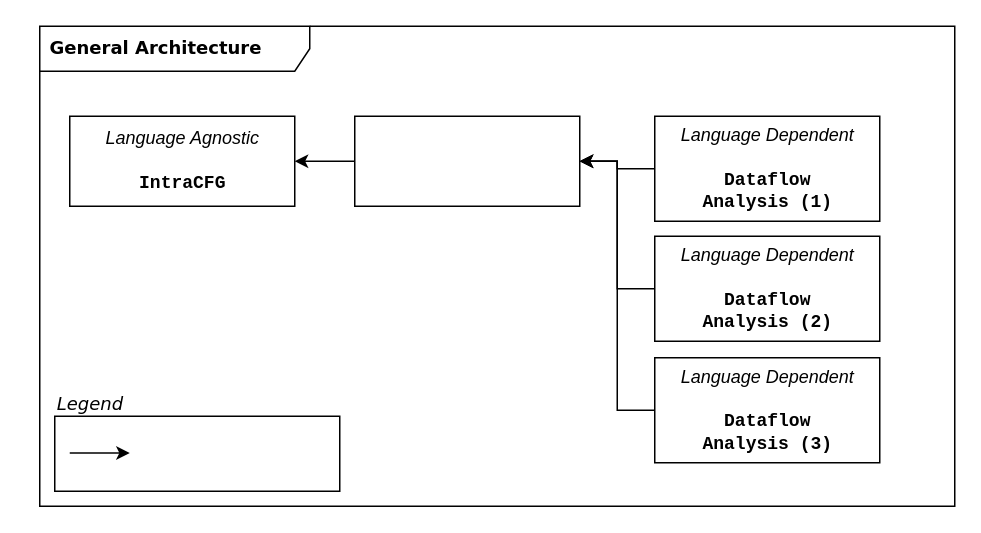
This 981x533 diagram has some shape labels left out. The shapes that lost their labels are listed below. From the top down, each one's centre as x and y in pixels, then its label:
At pixel 466 160: "Language Dependent IntraX".
At pixel 196 453: "Depends on".
